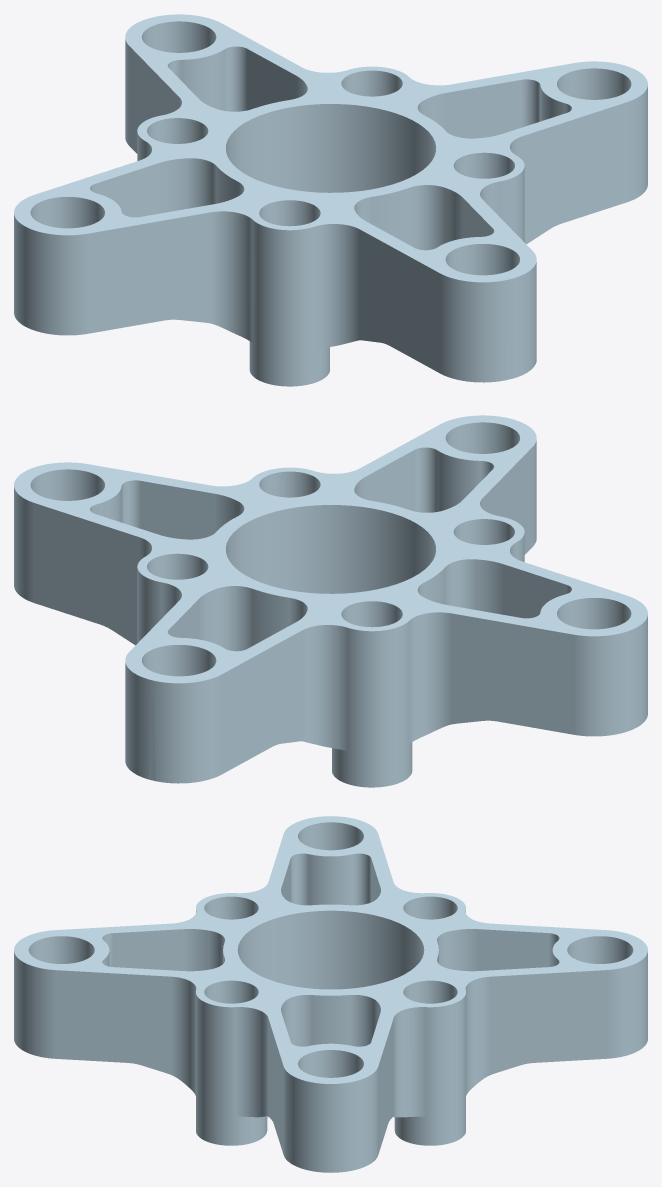
Rendered from wheel-hub.glb.
3 views of the same model, one above another, from view 1: azimuth 30°, elevation 25°; view 2: azimuth 150°, elevation 25°; view 3: azimuth 270°, elevation 25° (orthographic). The views are drawn at different scales.
Visible parts, largest first — view 1: Part 1; view 2: Part 1; view 3: Part 1.
Boxes of the visible parts, x1,y1,x2,y2 form: Part 1: [14, 14, 647, 386]; Part 1: [14, 415, 647, 787]; Part 1: [14, 816, 647, 1172].
Size of the model in its own units: 0.1295 by 0.0312 by 0.1295.
